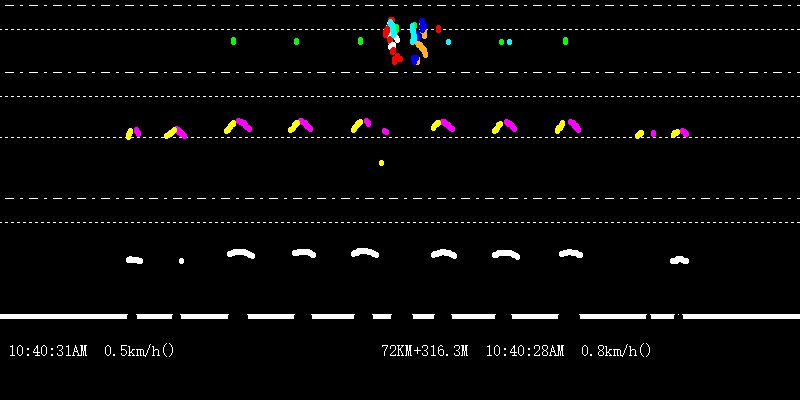J: (383, 2, 430, 61)
face_down: (228, 21, 239, 48), (561, 22, 569, 47)
y_p: (210, 110, 587, 272)
